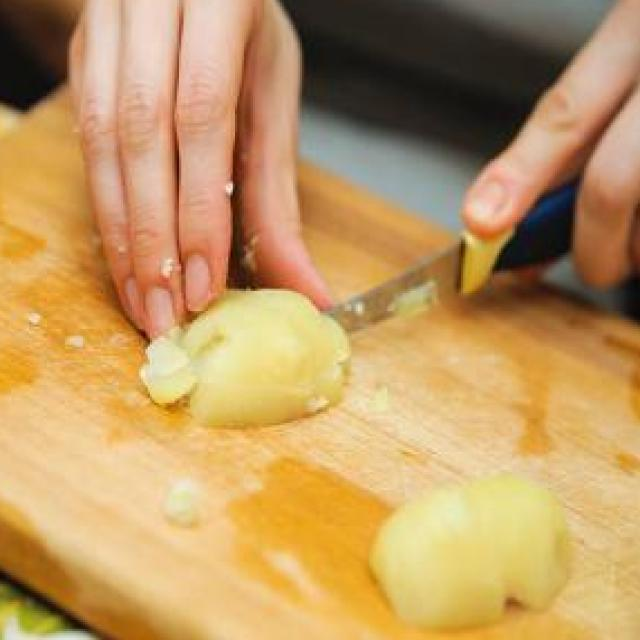knife: (294, 134, 613, 342)
